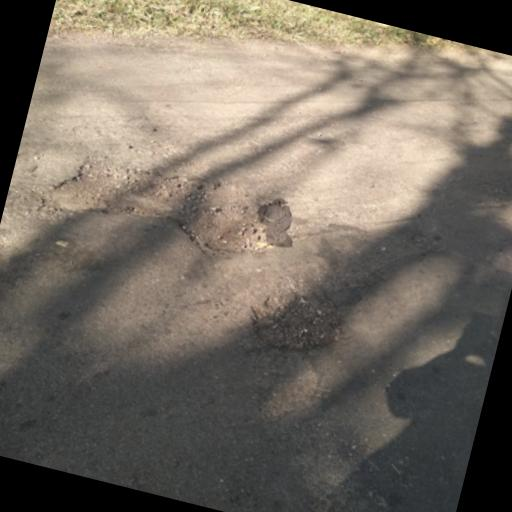pothole: (31, 135, 290, 274), (240, 274, 354, 364)
